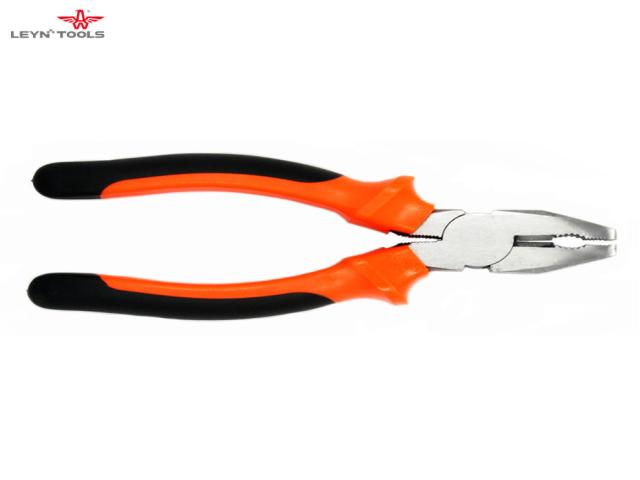Pliers: (28, 153, 616, 319)
